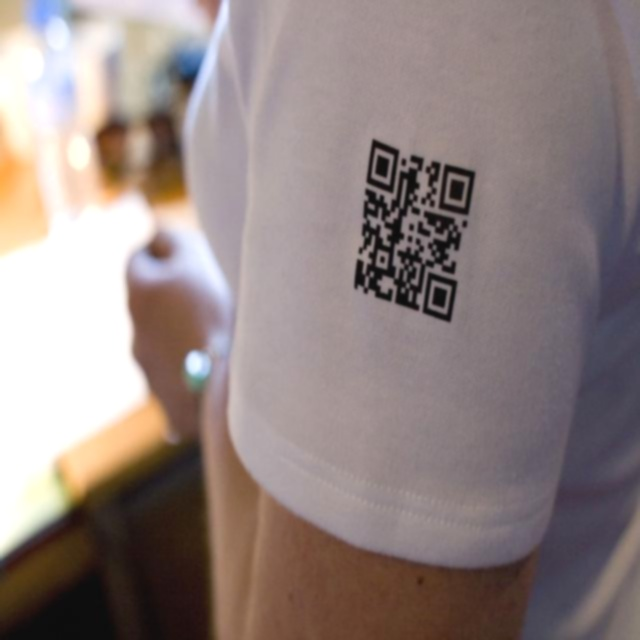qr-code: (352, 138, 476, 322)
